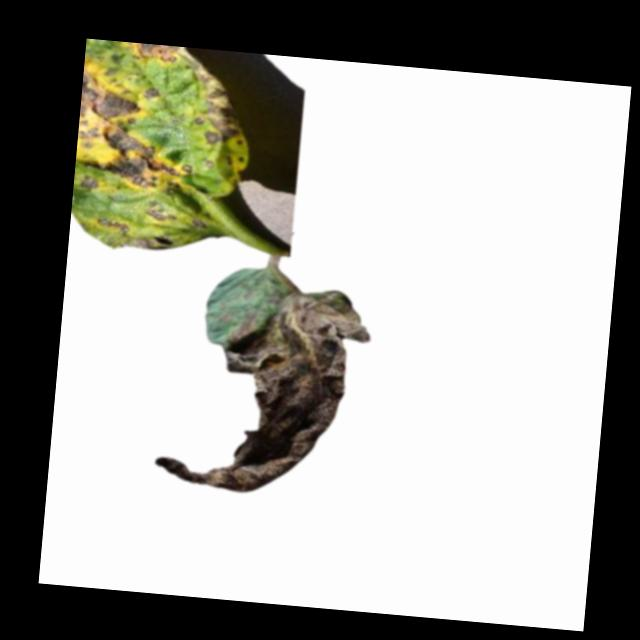Early_blight: (152, 276, 368, 501), (74, 69, 199, 201), (186, 61, 247, 146), (96, 215, 162, 252), (123, 42, 181, 66), (146, 205, 176, 223)
